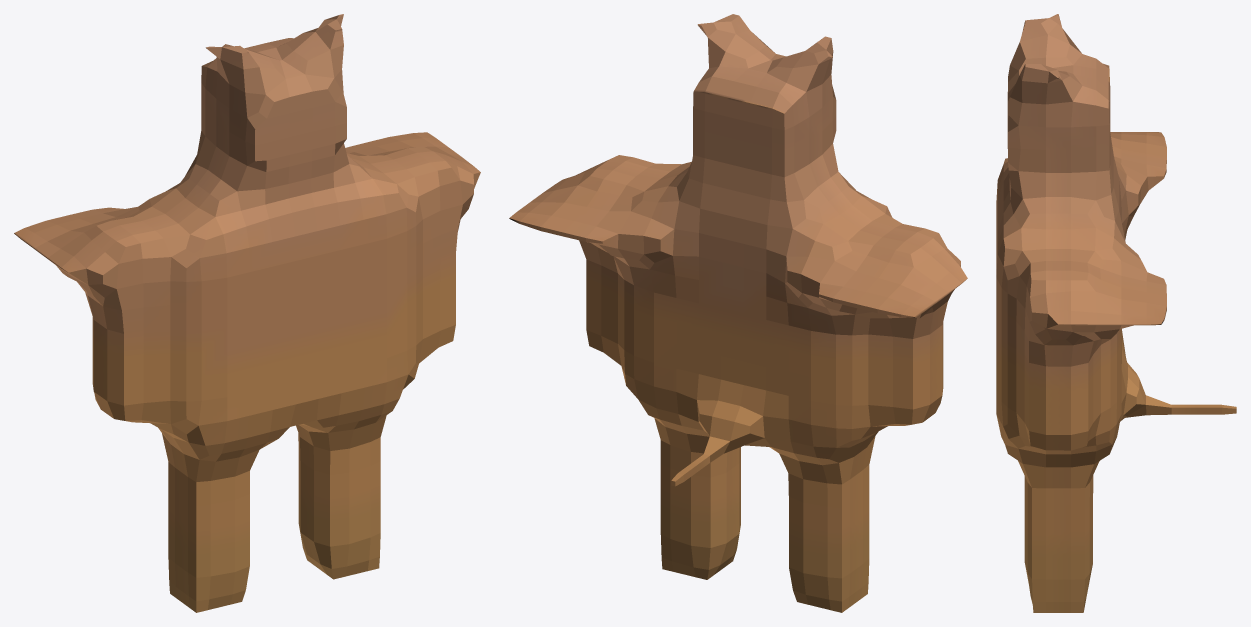
The model's file is succubus.glb.
3 views of the same model, side by side, from view 1: azimuth 30°, elevation 25°; view 2: azimuth 150°, elevation 25°; view 3: azimuth 270°, elevation 25° (orthographic). The views are drawn at different scales.
Parts seen in each view (by area): view 1: geometry_0; view 2: geometry_0; view 3: geometry_0.
Part boxes in pixels (bbox=[...]): geometry_0: bbox=[14, 14, 480, 612]; geometry_0: bbox=[509, 14, 967, 612]; geometry_0: bbox=[996, 14, 1236, 612].
Size of the model in its own units: 0.7553 by 0.963 by 0.3981.
1 material, 1 textured.
